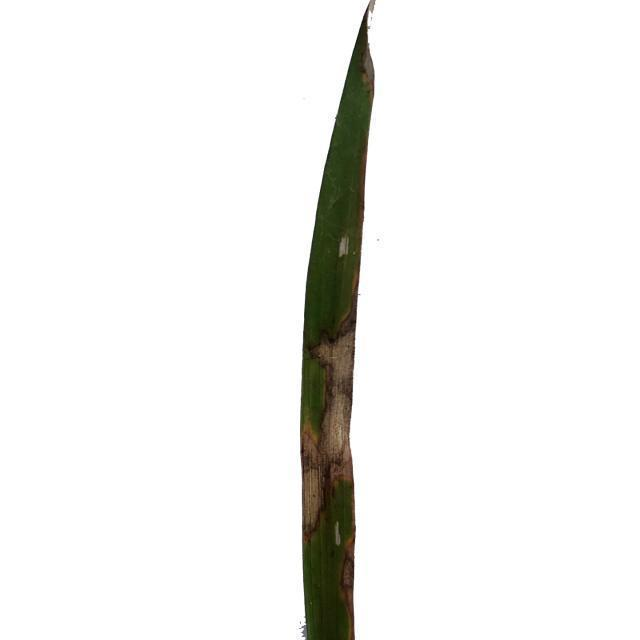Bacterial_Leaf_Blight: (302, 332, 349, 512), (333, 532, 358, 590), (329, 227, 360, 268)
